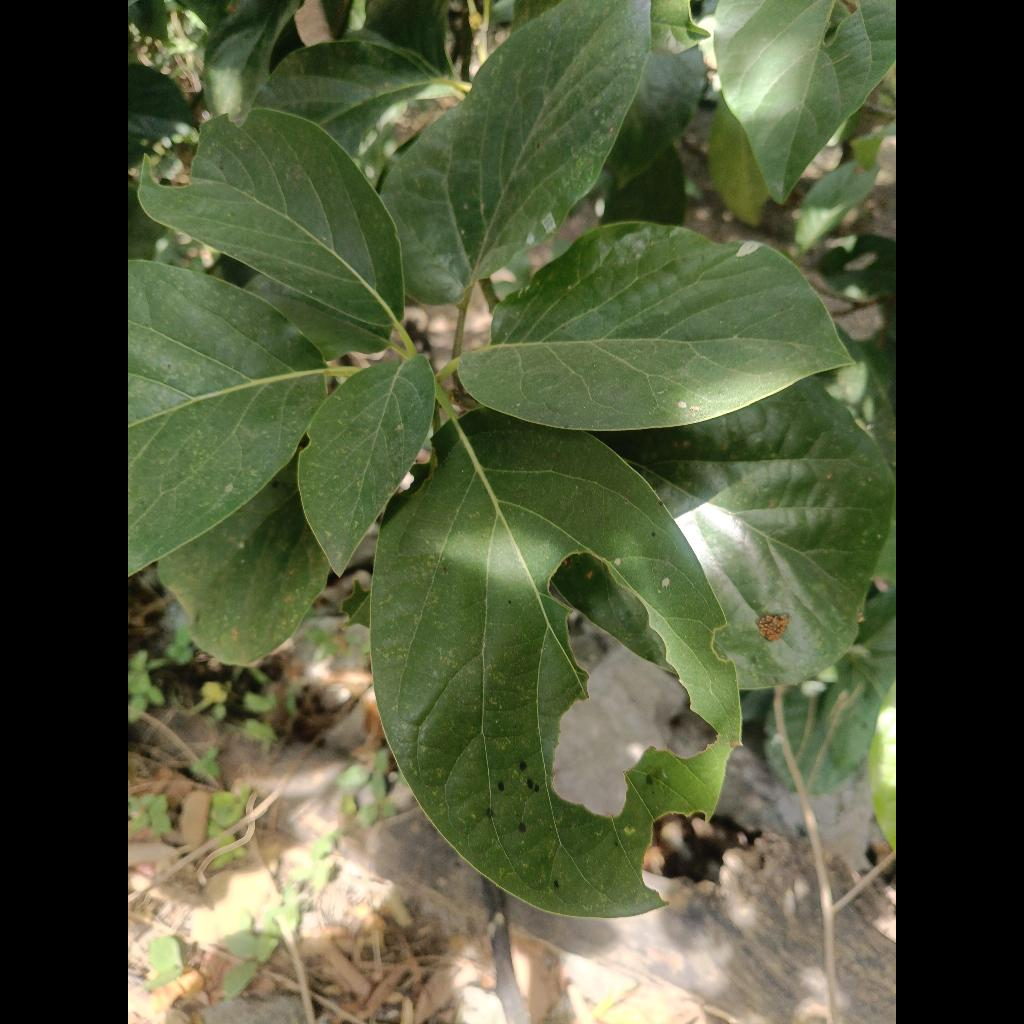Pest Infested: (371, 410, 740, 917)
